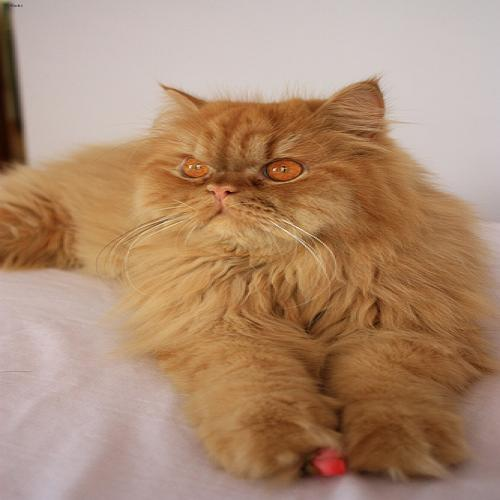persian: (108, 71, 415, 271)
